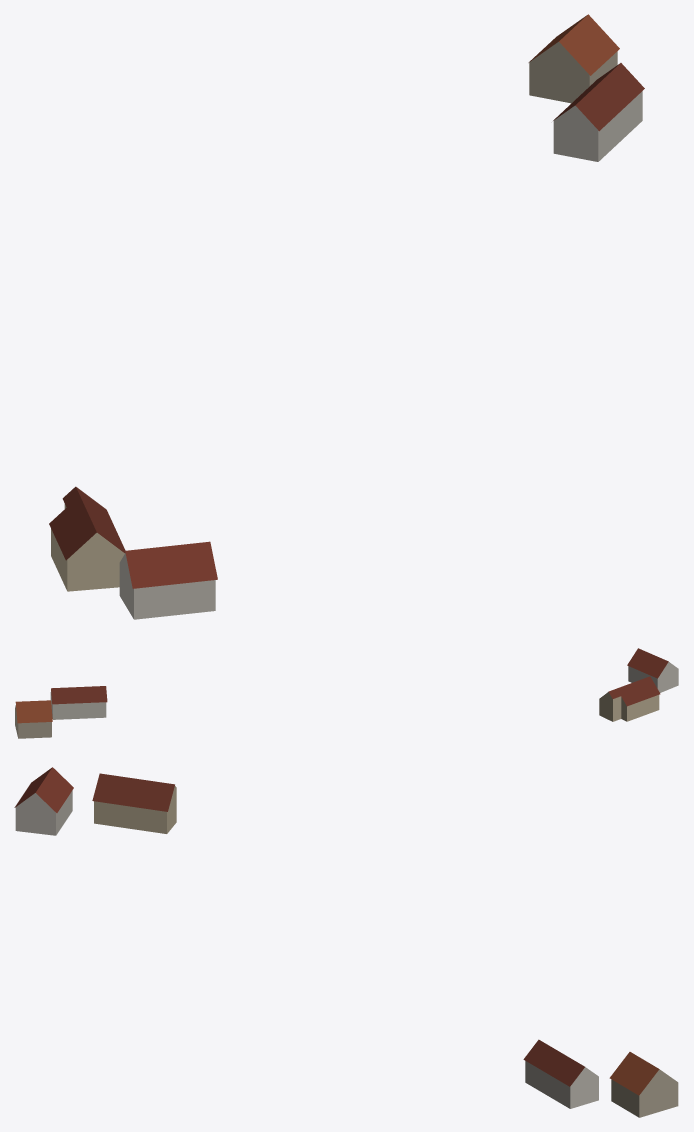
3 renders of one model, top to bottom at view 1: azimuth 30°, elevation 25°; view 2: azimuth 150°, elevation 25°; view 3: azimuth 270°, elevation 25°, orthographic. The views are drawn at different scales.
Visible parts, largest first — view 1: buildings; view 2: buildings; view 3: buildings.
Boxes of the visible parts, x1,y1,x2,y2 form: buildings: (49, 14, 644, 619); buildings: (15, 648, 678, 738); buildings: (14, 767, 678, 1117).
Size of the model in its own units: 177 by 14 by 154.
